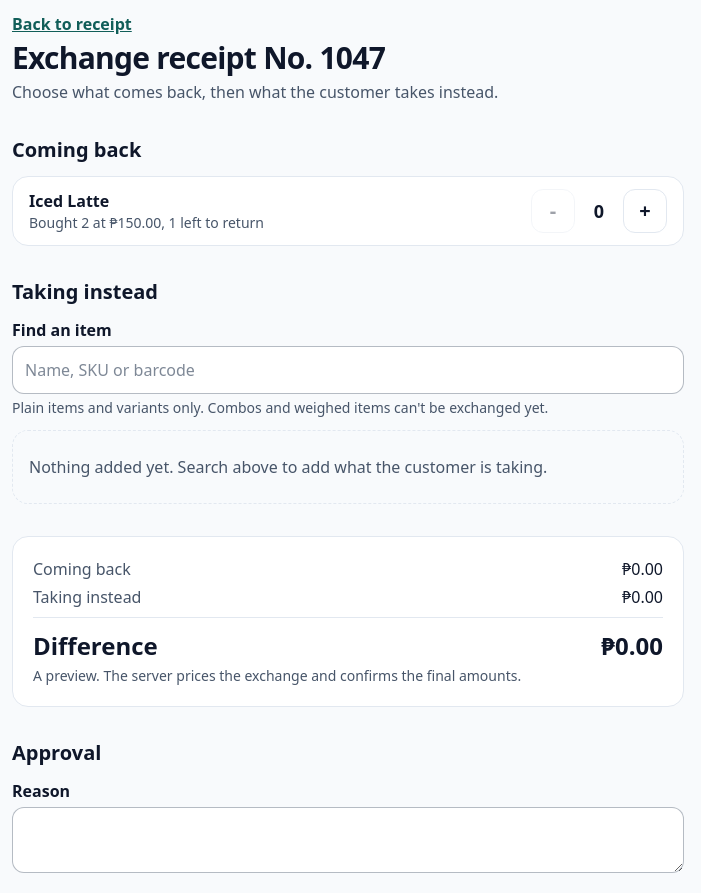
it: ExchangePage › caps the return quantity at what earlier exchanges left
The image size is (701, 893).
Expected: the text "Bought 2 at ₱150.00, 1 left to return" is shown, top-left (29, 213), bottom-right (264, 233)
Click the button named "Increase".
click(645, 211)  # box top-left (623, 189), bottom-right (667, 233)
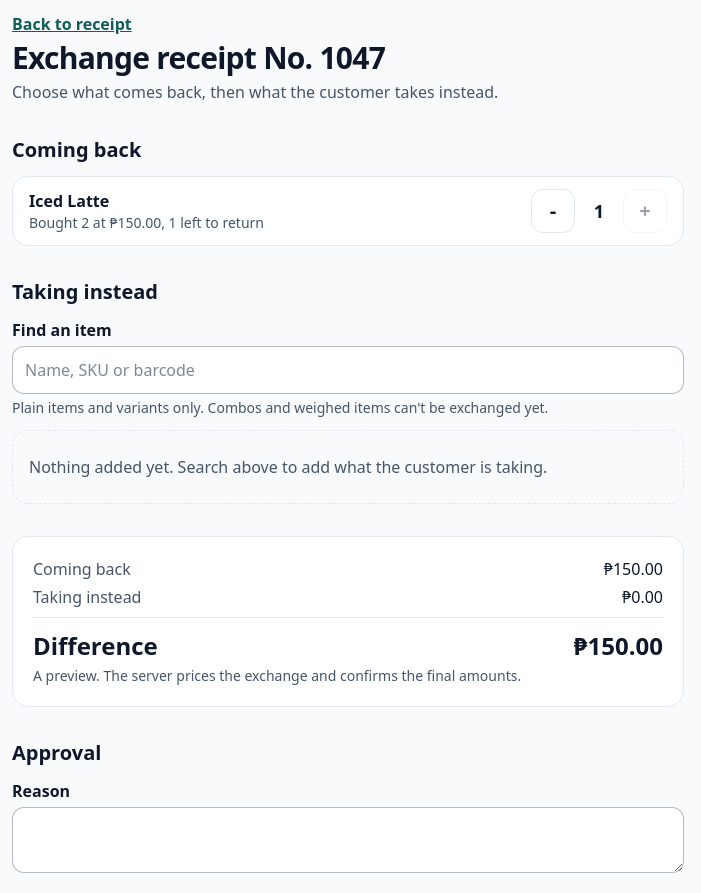
Now the button named "Increase" is disabled, box top-left (623, 189), bottom-right (667, 233)
